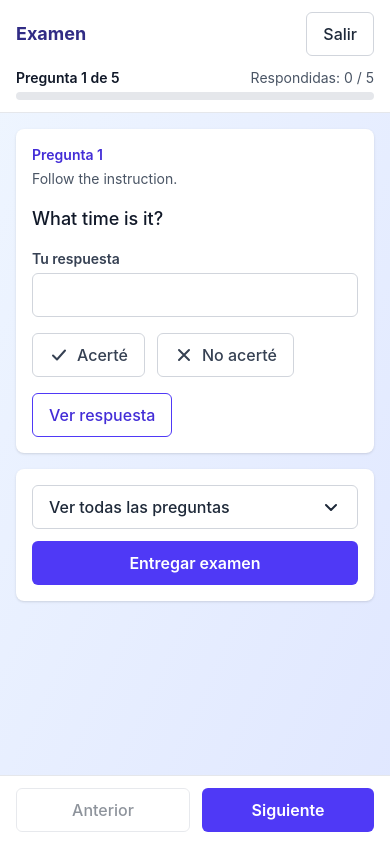
it: ExamPage - mobile navigator toggle › is collapsed by default and toggles aria-expanded
What coordinates should you click on to do the following:
click the button "Ver todas las preguntas"
I would click on:
 (195, 507)
Its box is [32,485,358,529].
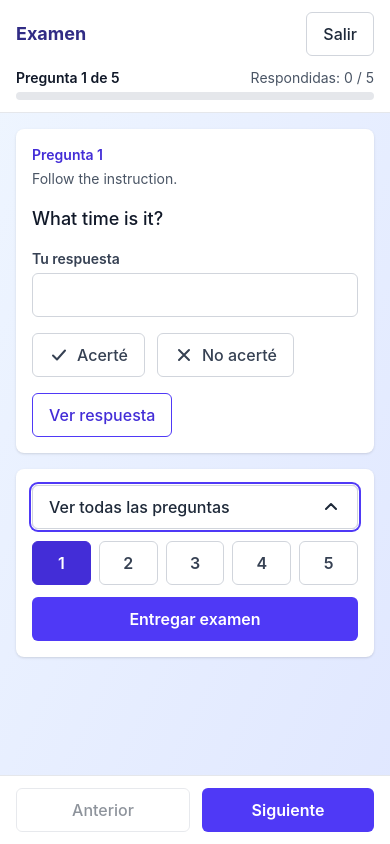
Now the button "Ver todas las preguntas" is expanded
What coordinates should you click on to do the following:
click the button "Ver todas las preguntas"
I would click on:
 (195, 507)
Its box is [32,485,358,529].
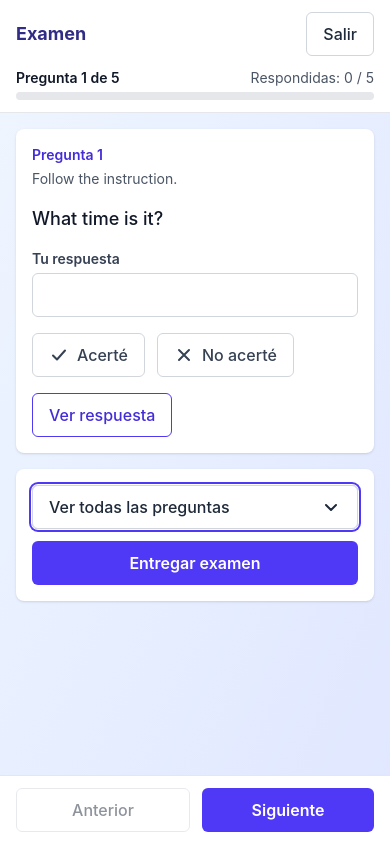
Now the button "Ver todas las preguntas" is collapsed, box [32,485,358,529]
